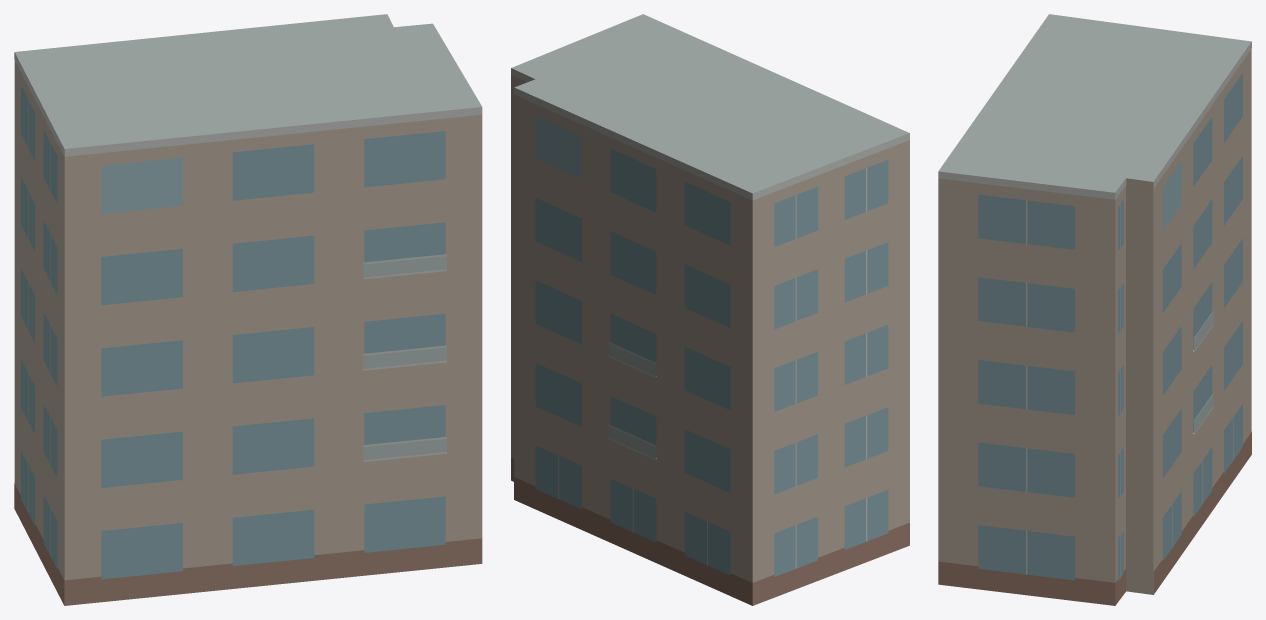
File: survey-upis-32947599.glb
The picture shows the model from 3 angles, left to right: view 1: azimuth 30°, elevation 25°; view 2: azimuth 150°, elevation 25°; view 3: azimuth 270°, elevation 25°; orthographic projection. The views are drawn at different scales.
Parts seen in each view (by area): view 1: survey-upis-32947599.tmp; view 2: survey-upis-32947599.tmp; view 3: survey-upis-32947599.tmp.
Boxes of the visible parts, <box> form: survey-upis-32947599.tmp: <box>14,14,482,605</box>; survey-upis-32947599.tmp: <box>511,14,909,605</box>; survey-upis-32947599.tmp: <box>938,14,1251,605</box>.
Bounding box in the file's own units: 13.42 × 14.45 × 9.95.
